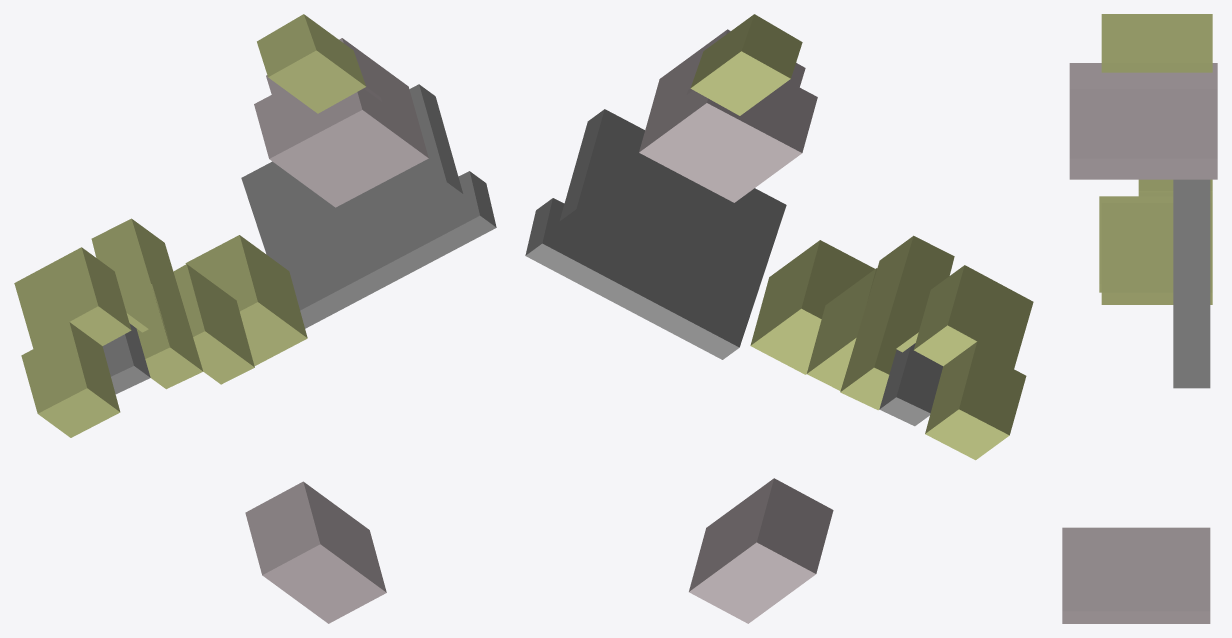
3 renders of one model, left to right at view 1: azimuth 30°, elevation 25°; view 2: azimuth 150°, elevation 25°; view 3: azimuth 270°, elevation 25°, orthographic. The views are drawn at different scales.
Parts seen in each view (by area): view 1: 0_1_0_0_1_0_2_0_1; view 2: 0_1_0_0_1_0_2_0_1; view 3: 0_1_0_0_1_0_2_0_1.
Part boxes in pixels (left/top/right/bottom): 0_1_0_0_1_0_2_0_1: left=14, top=14, right=496, bottom=623; 0_1_0_0_1_0_2_0_1: left=525, top=14, right=1033, bottom=623; 0_1_0_0_1_0_2_0_1: left=1062, top=14, right=1217, bottom=623.
Size of the model in its own units: 48.45 by 54.81 by 12.6.
